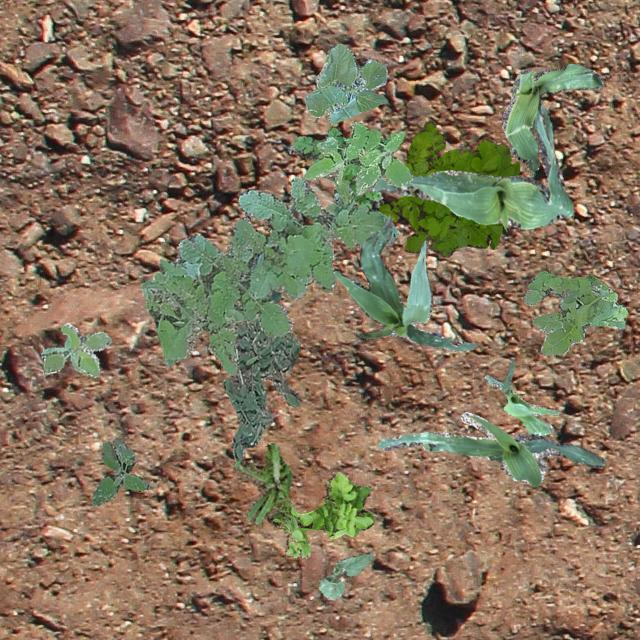crop: (368, 100, 572, 228), (333, 214, 478, 350), (378, 410, 604, 486), (500, 62, 602, 170), (304, 42, 386, 122), (484, 358, 560, 434), (318, 552, 372, 598)
weed: (140, 176, 398, 374), (376, 118, 518, 256), (222, 288, 300, 460), (268, 472, 372, 558), (522, 270, 626, 354), (286, 127, 382, 210), (302, 120, 411, 193), (233, 442, 290, 524), (90, 436, 148, 504), (40, 322, 110, 376)
